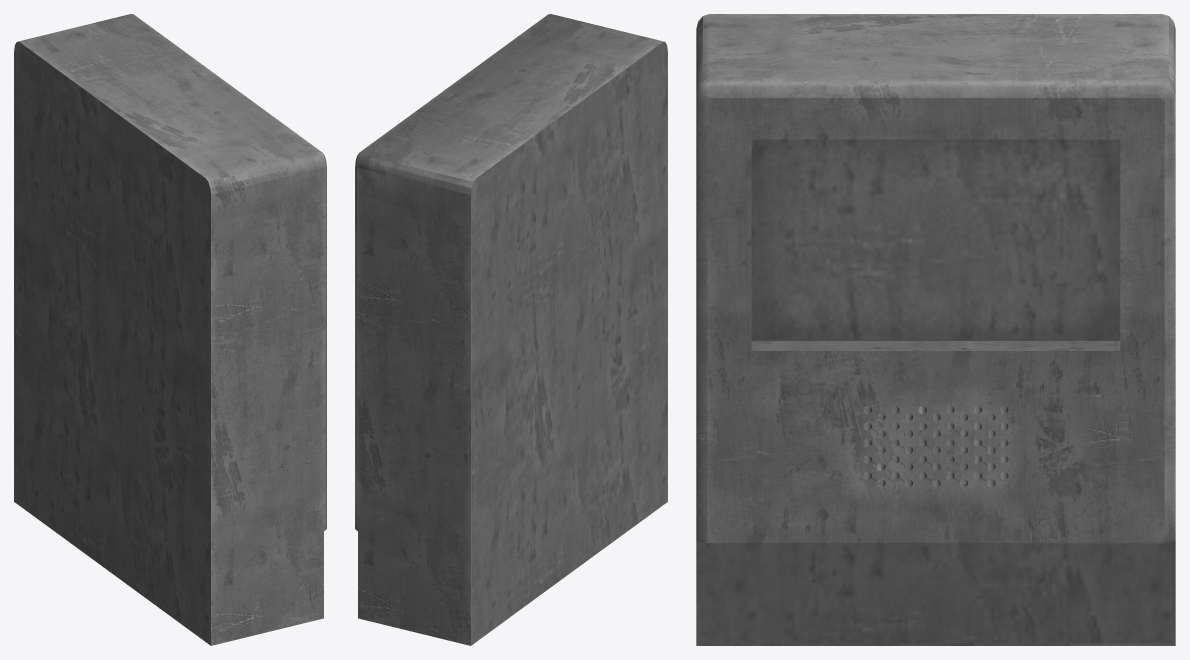
File: interBase.fbx
3 renders of one model, left to right at view 1: azimuth 30°, elevation 25°; view 2: azimuth 150°, elevation 25°; view 3: azimuth 270°, elevation 25°, orthographic. The views are drawn at different scales.
Visible parts, largest first — view 1: base; view 2: base; view 3: base.
Boxes of the visible parts, x1,y1,x2,y2 form: base: (14, 14, 326, 645); base: (355, 14, 667, 645); base: (696, 14, 1175, 645).
Size of the model in its own units: 53.78 by 200 by 154.
